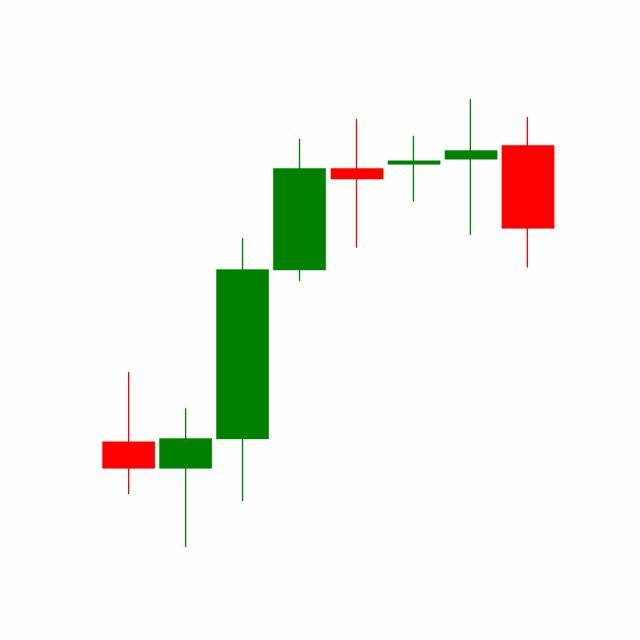Up-Down Gap Side-by-side White Lines: (328, 99, 500, 252)
